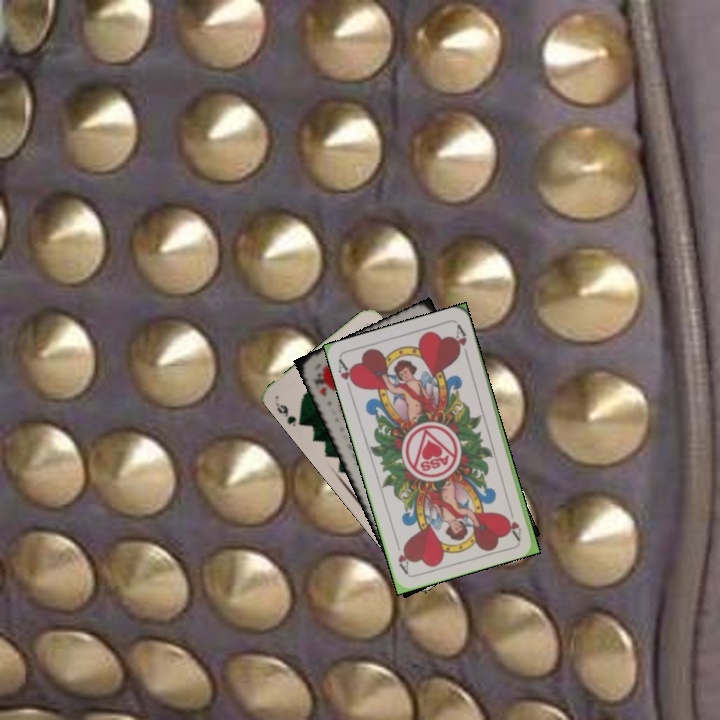G9: (272, 398, 306, 429)
HA: (334, 355, 360, 395), (504, 502, 524, 542)
HK: (308, 369, 329, 399)
